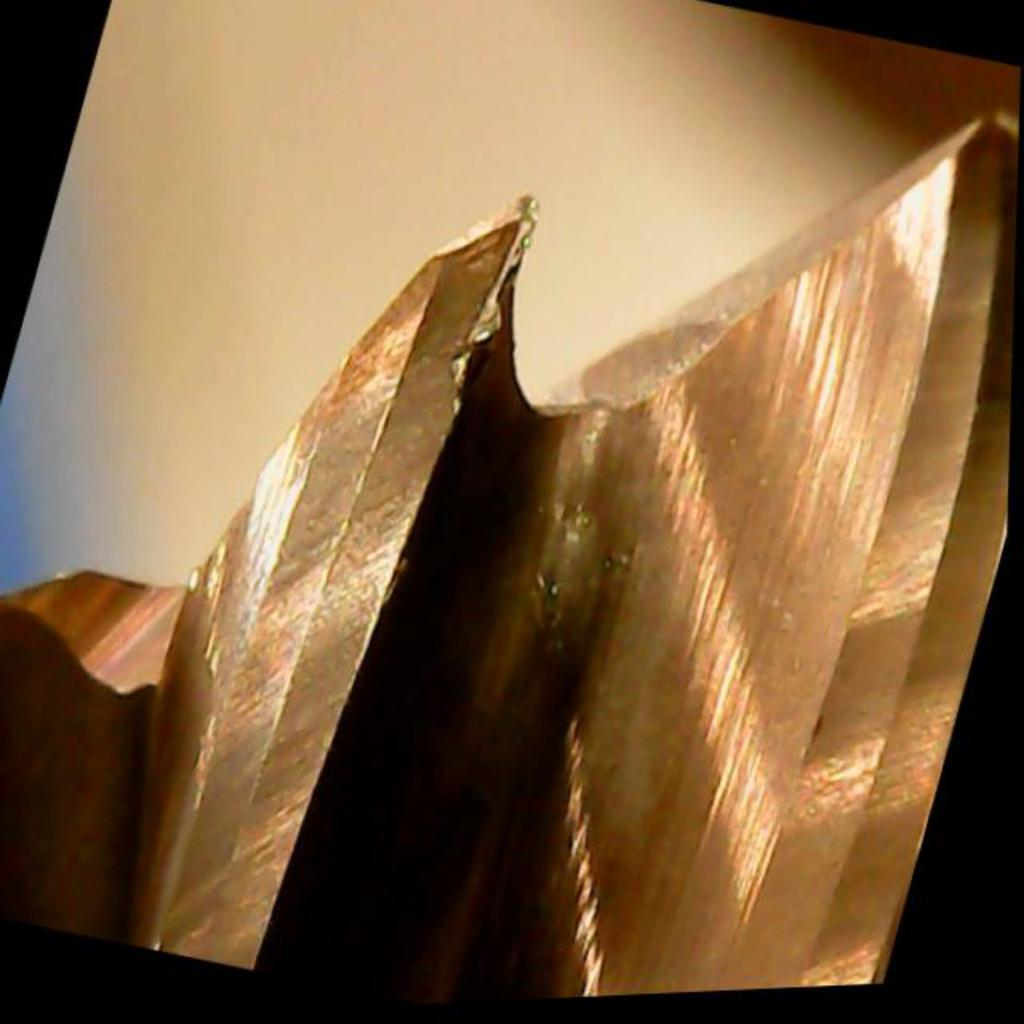Tool-wear-class-1: (222, 146, 568, 715)
